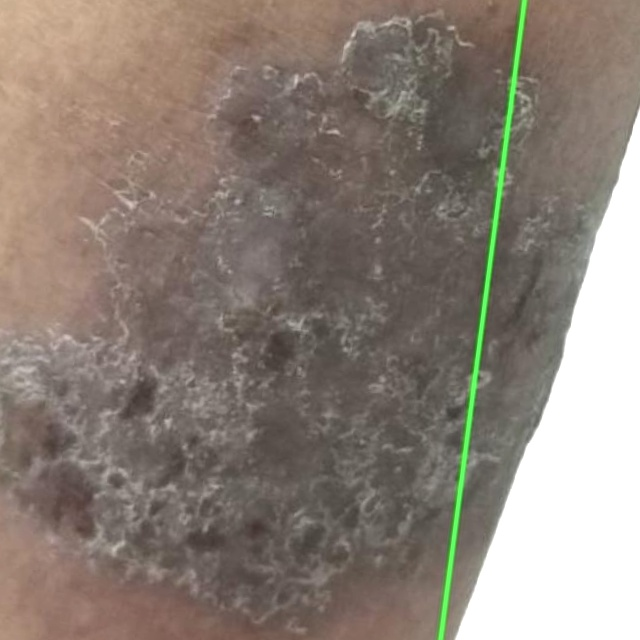Eczema: (440, 0, 639, 639)
